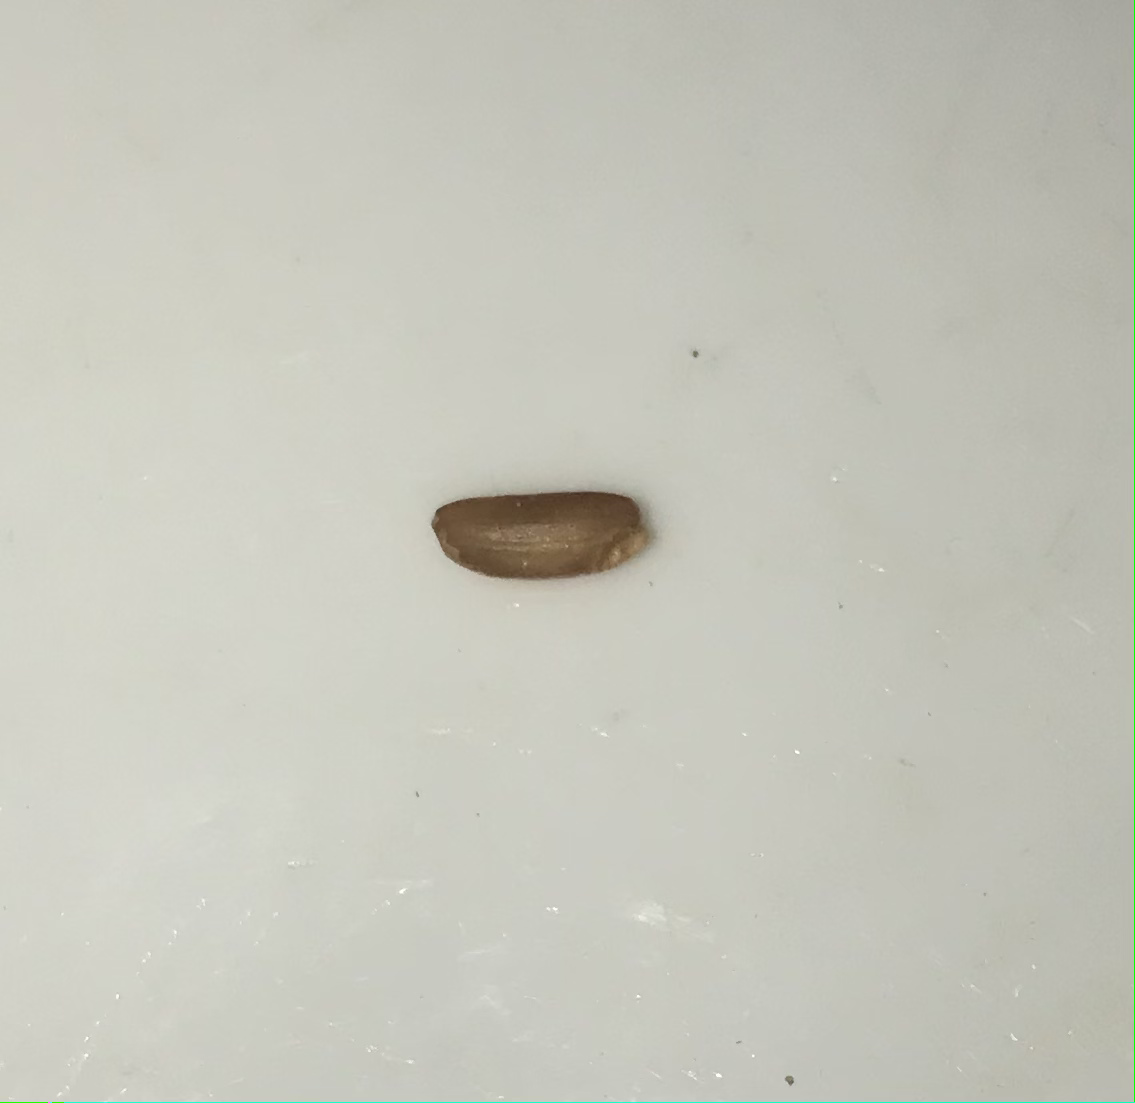Gao Lut Do: (419, 475, 656, 586)
